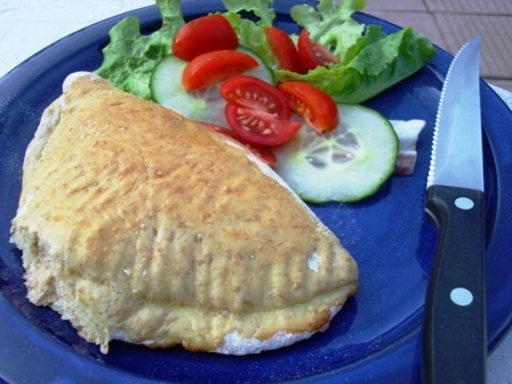background: (6, 0, 348, 213)
